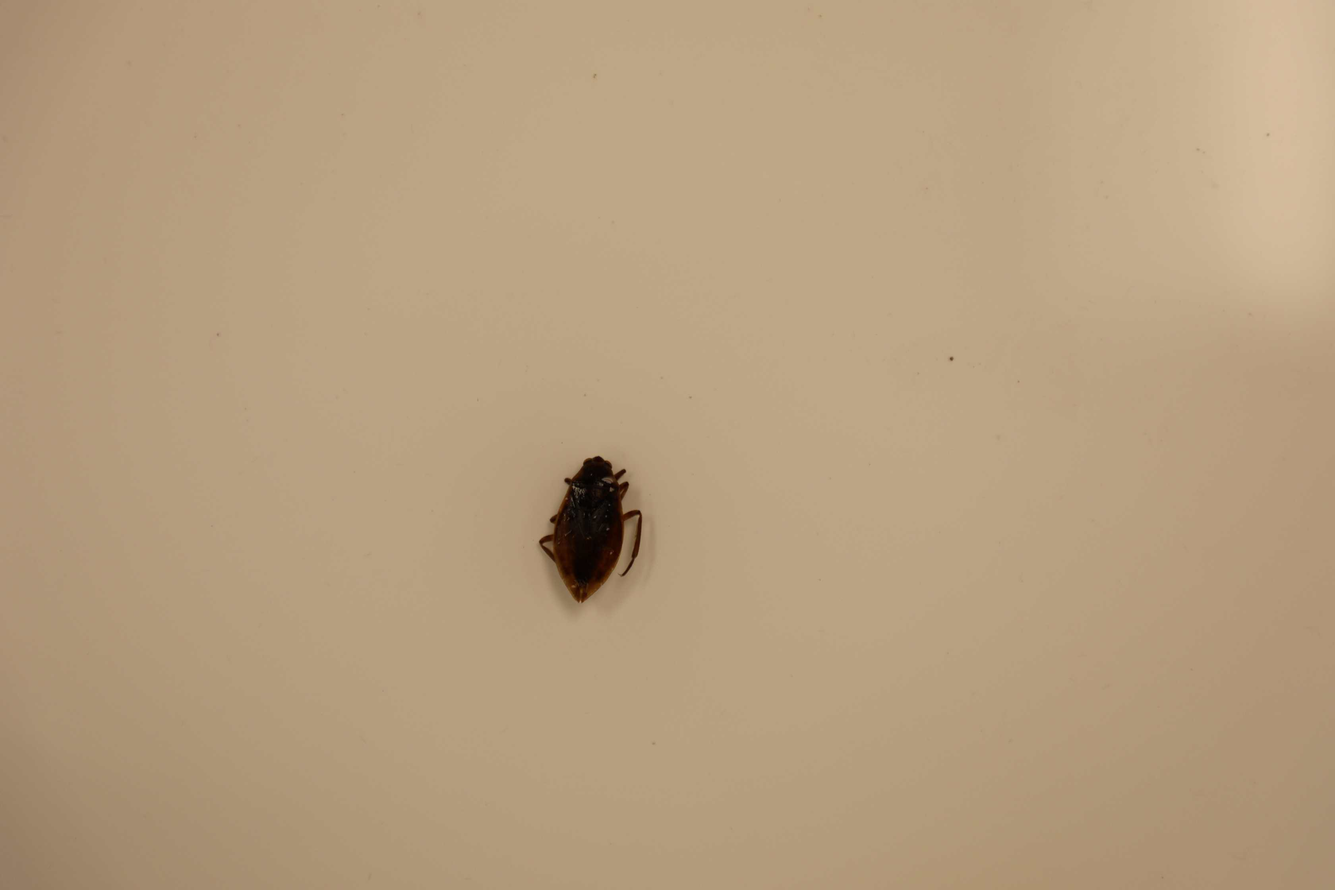Other: (539, 450, 644, 605)
